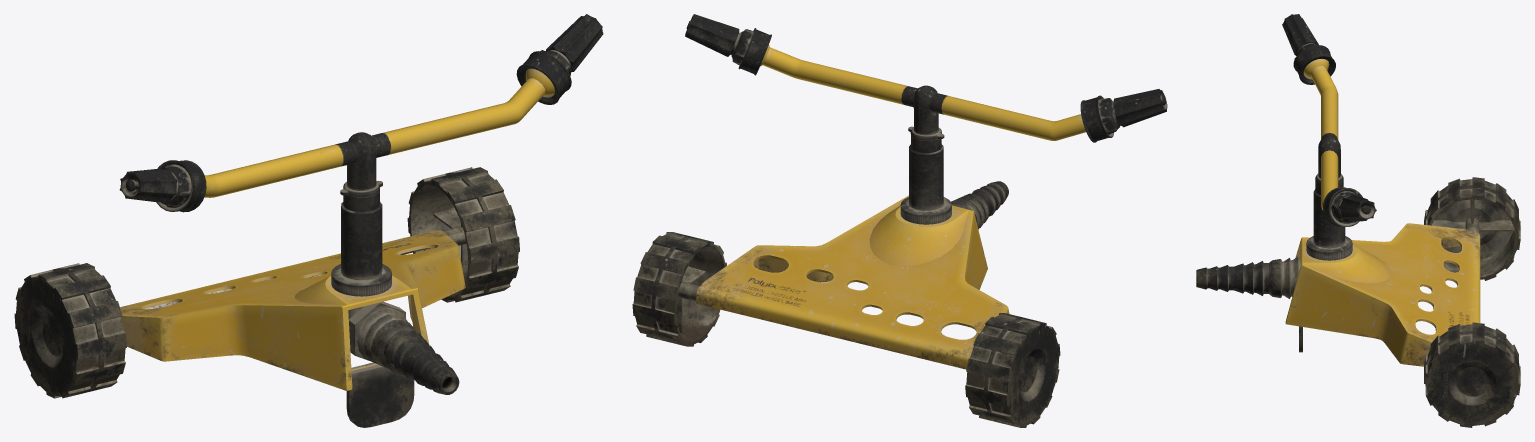
File: garden_sprinkler_01_2k.gltf
3 renders of one model, left to right at view 1: azimuth 30°, elevation 25°; view 2: azimuth 150°, elevation 25°; view 3: azimuth 270°, elevation 25°, orthographic. The views are drawn at different scales.
Visible parts, largest first — view 1: garden_sprinkler_01_body_main, garden_sprinkler_01_wheels, garden_sprinkler_01_spinner, garden_sprinkler_01_nozel_left, garden_sprinkler_01_nozel_right; view 2: garden_sprinkler_01_body_main, garden_sprinkler_01_wheels, garden_sprinkler_01_spinner, garden_sprinkler_01_nozel_left, garden_sprinkler_01_nozel_right; view 3: garden_sprinkler_01_body_main, garden_sprinkler_01_wheels, garden_sprinkler_01_spinner, garden_sprinkler_01_nozel_left, garden_sprinkler_01_nozel_right.
Part boxes in pixels (x1=…): garden_sprinkler_01_body_main: x1=120, y1=181, x2=465, y2=427; garden_sprinkler_01_wheels: x1=14, y1=167, x2=519, y2=398; garden_sprinkler_01_spinner: x1=204, y1=68, x2=554, y2=197; garden_sprinkler_01_nozel_left: x1=119, y1=160, x2=206, y2=212; garden_sprinkler_01_nozel_right: x1=516, y1=14, x2=603, y2=104; garden_sprinkler_01_body_main: x1=696, y1=126, x2=1009, y2=369; garden_sprinkler_01_wheels: x1=632, y1=232, x2=1060, y2=427; garden_sprinkler_01_spinner: x1=760, y1=45, x2=1085, y2=140; garden_sprinkler_01_nozel_left: x1=1080, y1=89, x2=1167, y2=142; garden_sprinkler_01_nozel_right: x1=685, y1=14, x2=771, y2=75; garden_sprinkler_01_body_main: x1=1196, y1=174, x2=1480, y2=366; garden_sprinkler_01_wheels: x1=1424, y1=177, x2=1520, y2=427; garden_sprinkler_01_spinner: x1=1303, y1=59, x2=1340, y2=210; garden_sprinkler_01_nozel_left: x1=1282, y1=14, x2=1335, y2=84; garden_sprinkler_01_nozel_right: x1=1323, y1=187, x2=1376, y2=226.
Size of the model in its own units: 0.3508 by 0.203 by 0.2491.
1 material, 1 textured.
